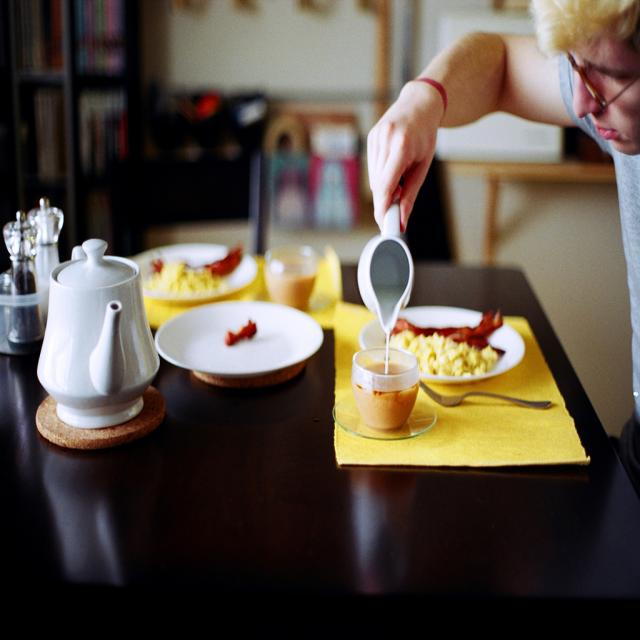Tea: (352, 360, 418, 431), (266, 260, 317, 314)
